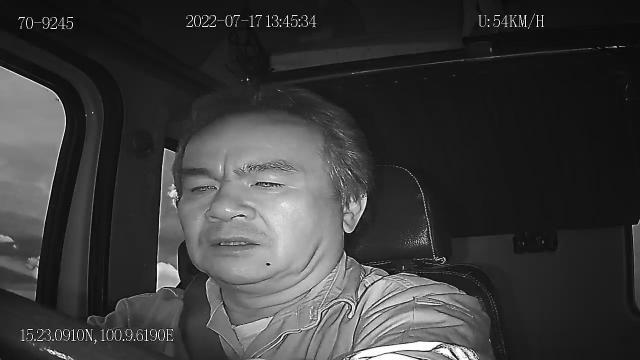SafeDriving: (242, 168, 294, 195), (181, 173, 222, 200)
Seatbelt: (180, 270, 232, 360)
